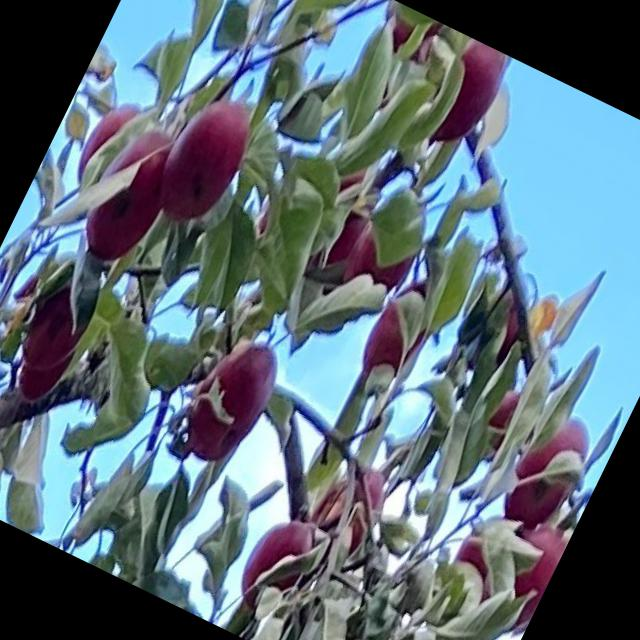Apples: (77, 118, 187, 266), (144, 98, 256, 233), (174, 331, 286, 466), (493, 400, 599, 537), (12, 252, 109, 372), (417, 35, 511, 156), (298, 167, 386, 283), (302, 455, 392, 563), (232, 514, 319, 618), (352, 279, 436, 385), (486, 521, 568, 627), (339, 208, 424, 302), (68, 92, 143, 195), (444, 517, 517, 600), (470, 282, 535, 366), (7, 339, 71, 410), (378, 3, 442, 65), (478, 381, 532, 454)
